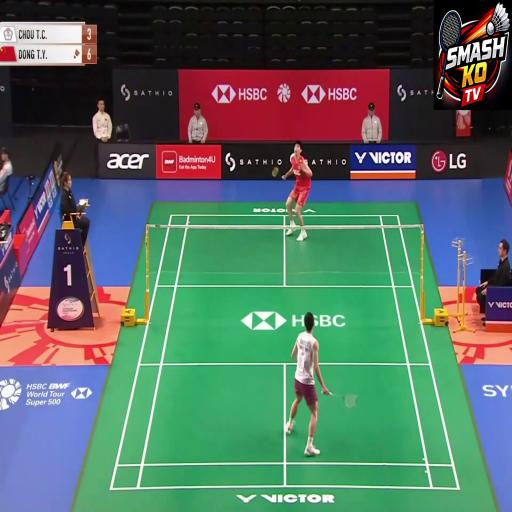player: (296, 315, 341, 466), (283, 128, 319, 263), (281, 304, 319, 412)
